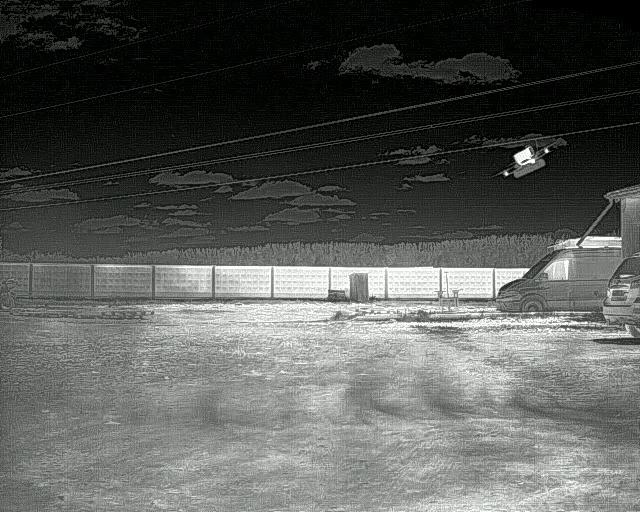drone-thermal: (495, 143, 556, 184)
